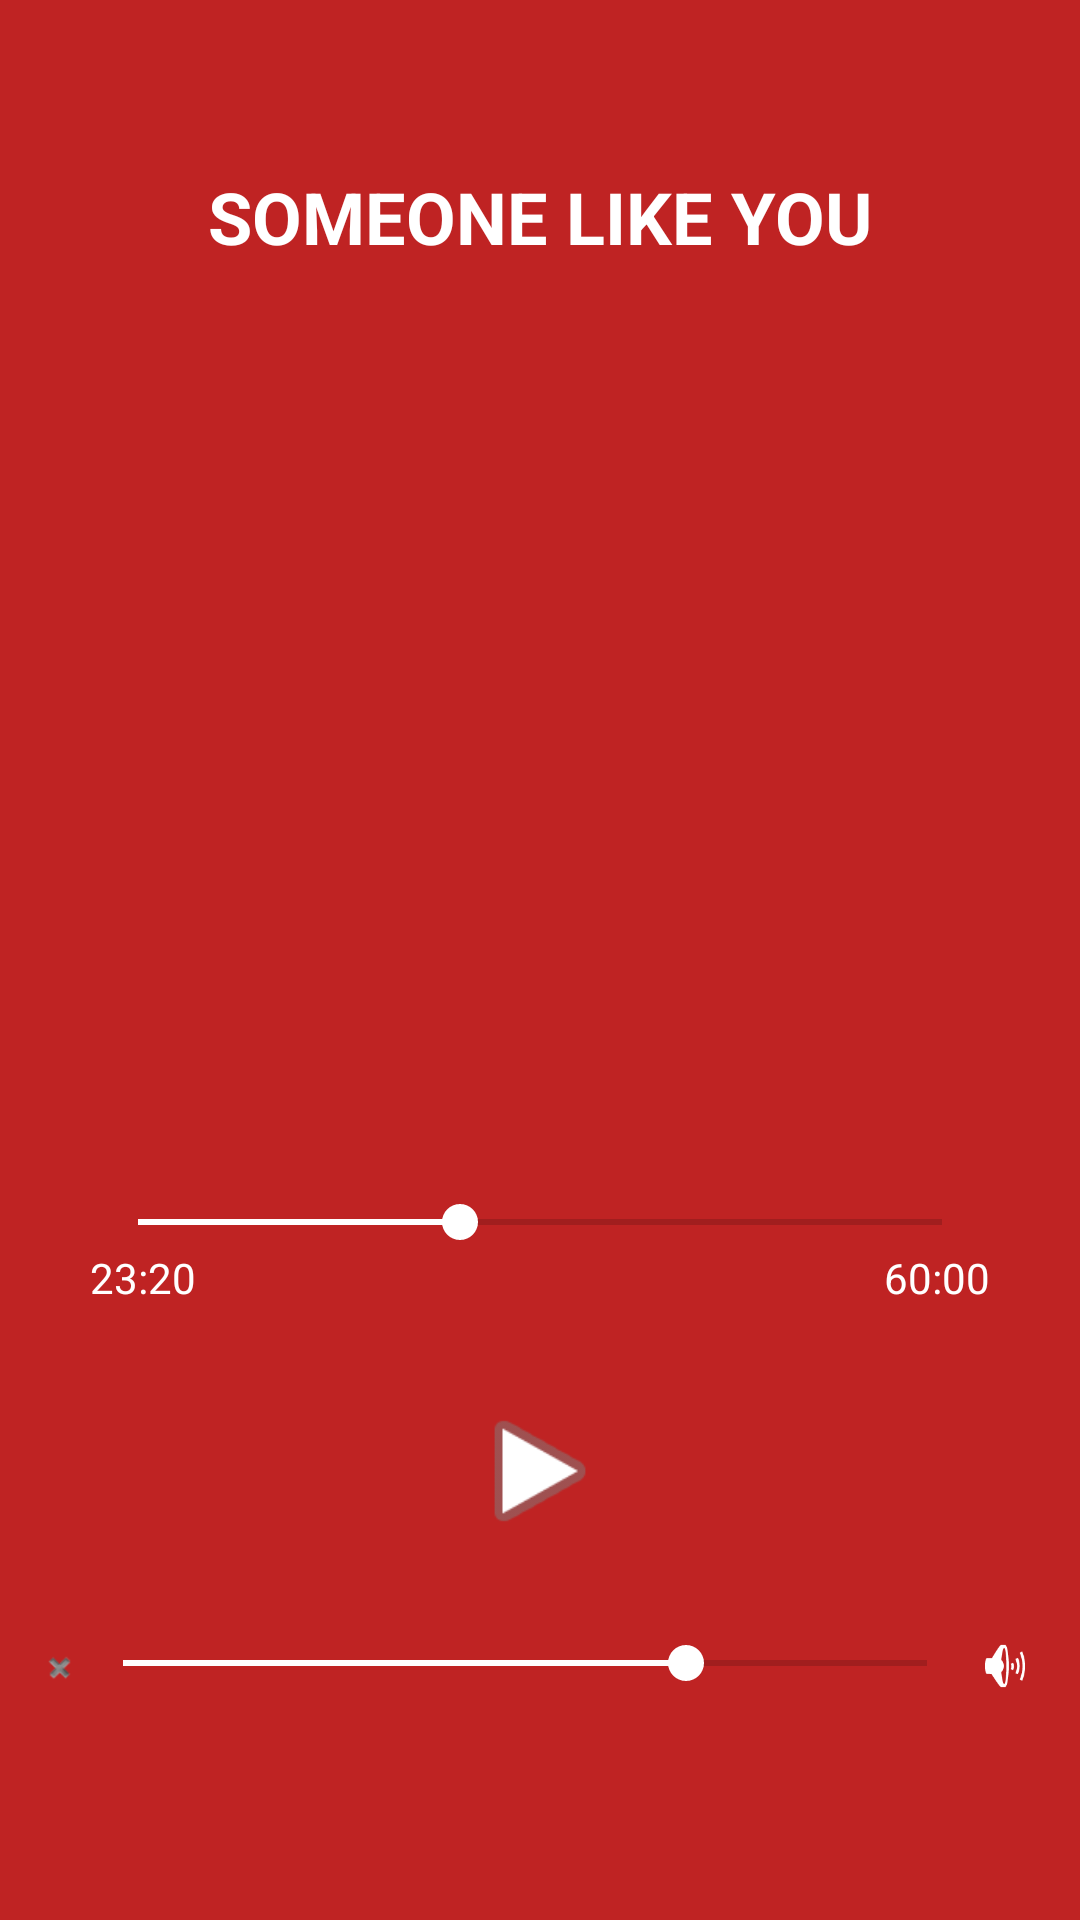

Icon bounding boxes for this 1080*1920 phone screenshot, format (x1,y1,x2,y2):
lock silent mode off: (985,1645,1025,1687)
play: (495,1421,585,1521)
